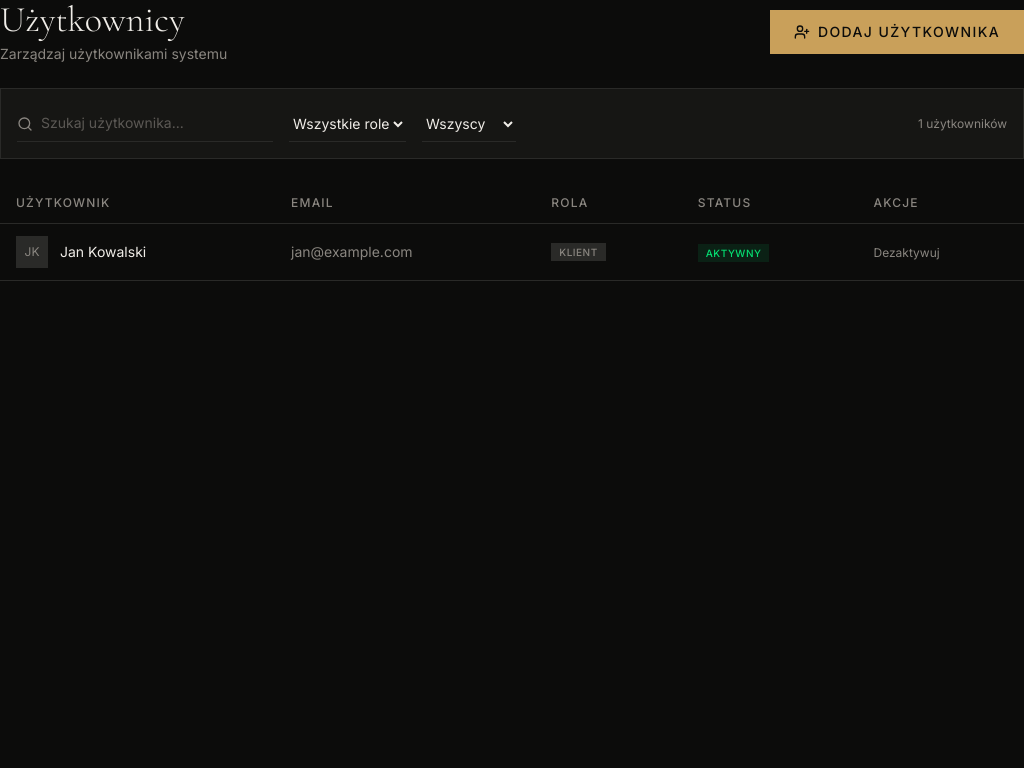
Test: AdminUsers › Clicking a row opens that user's details
Click the text "Jan Kowalski" at (103, 252), box [60,242,146,262]
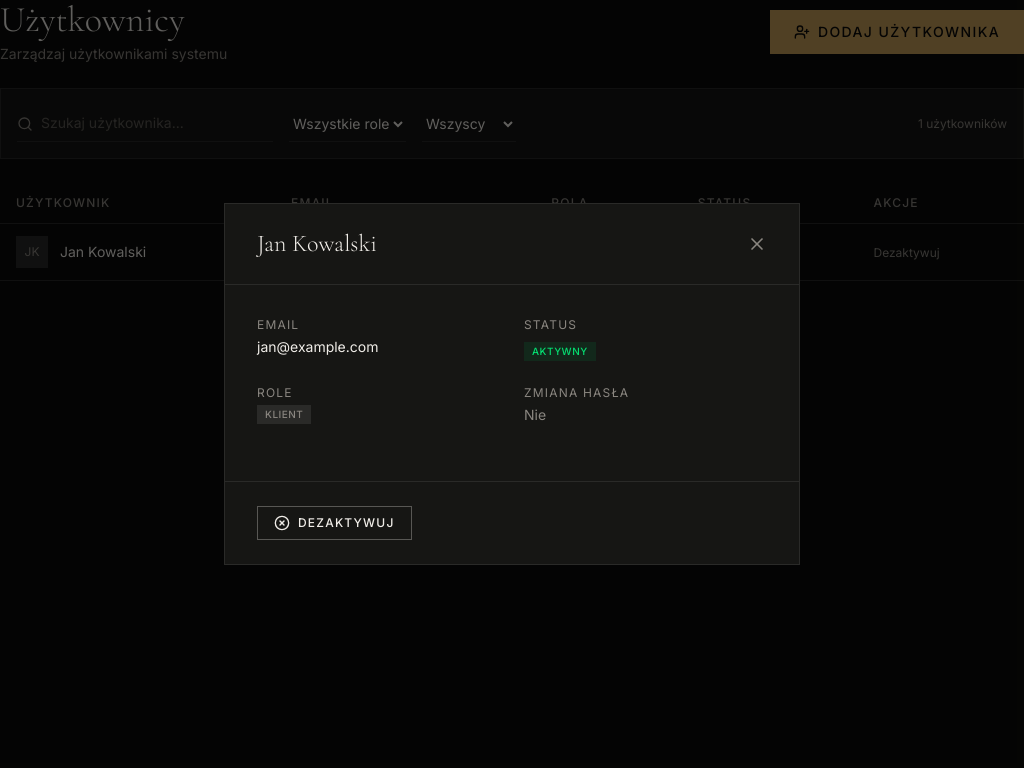
Now the text "jan@example.com" is shown, box [257,338,378,355]
